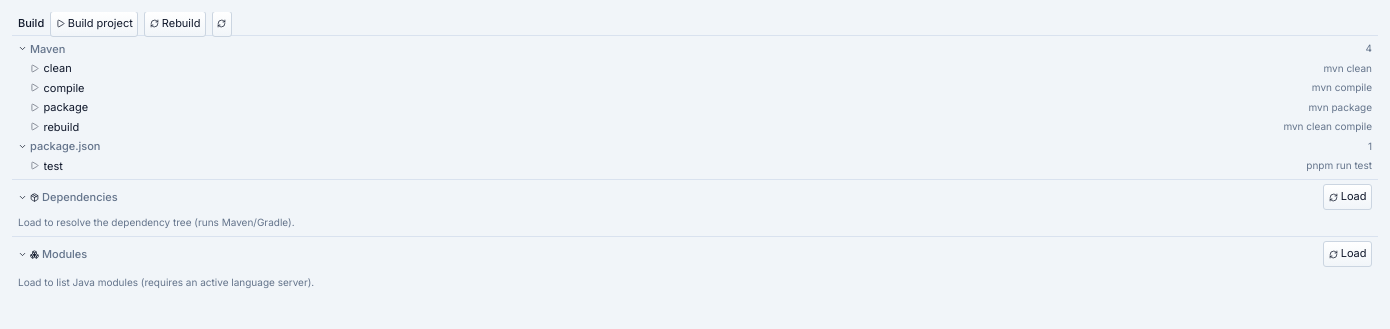
it: BuildPanel › shows the Modules section only for Java roots and loads on demand
This screenshot has width=1390, height=329.
Click the button with test id "build-panel-modules-load-app" at (1348, 254), box [1323,241,1372,267]
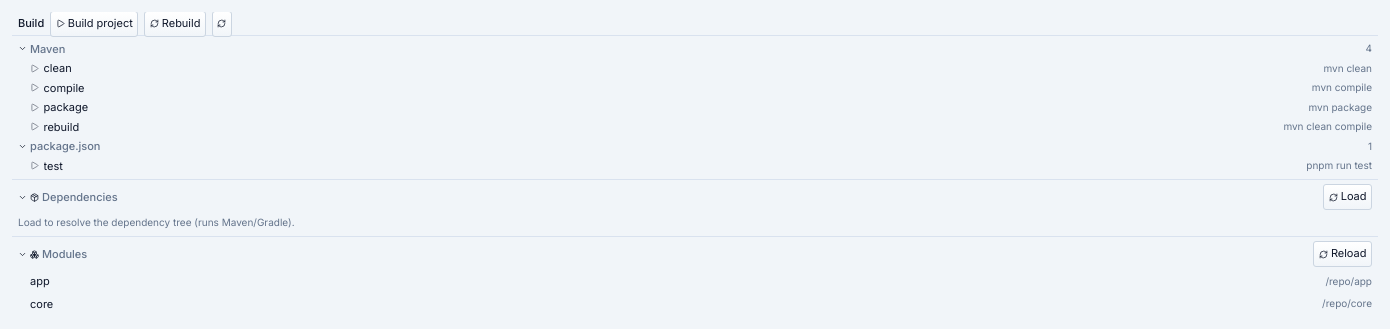
Now the text "core" is shown, box [30,296,53,312]
